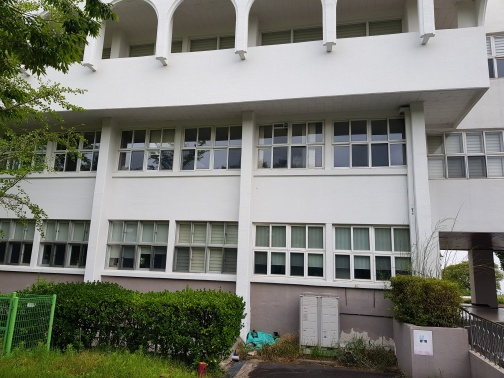Main Building of University: (33, 5, 493, 327)
